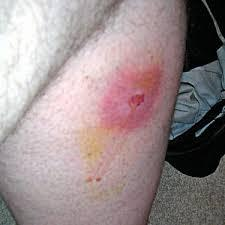Spider: (107, 70, 151, 130)
